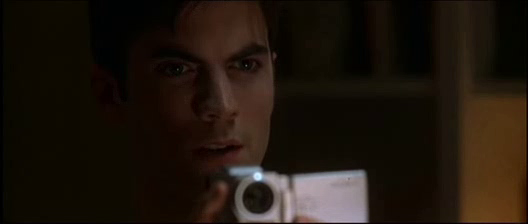ecu: (1, 1, 528, 224)
face: (121, 1, 274, 224)
person: (87, 1, 326, 224)
